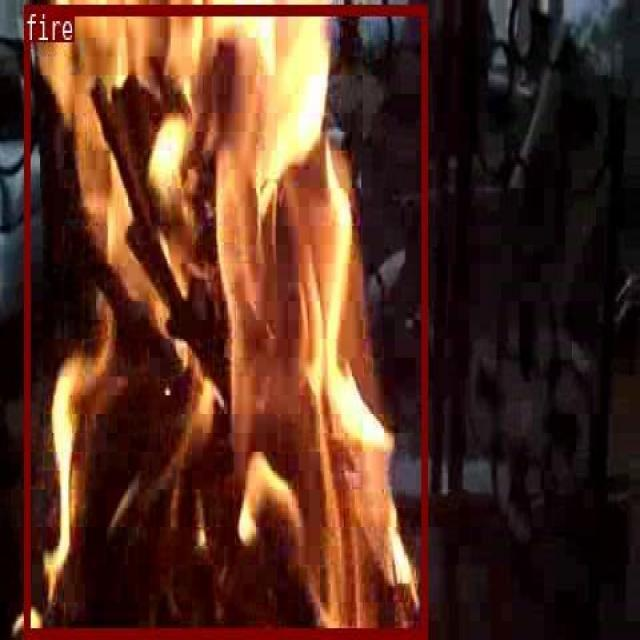fire: (24, 4, 426, 636)
